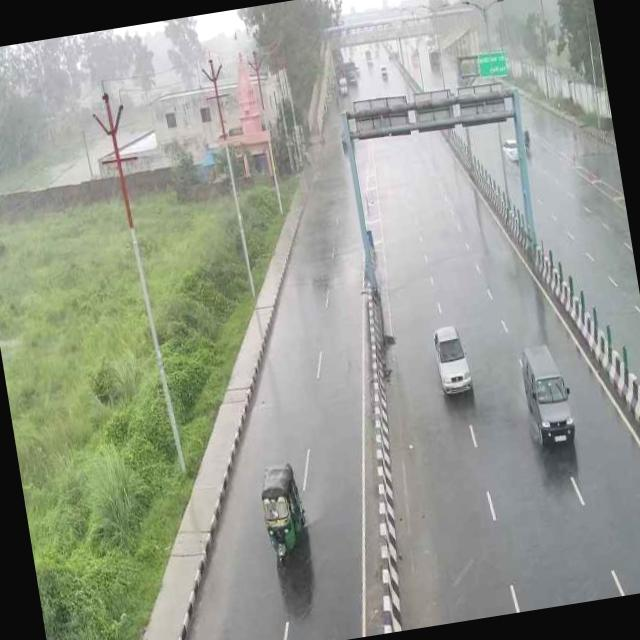car: (512, 332, 586, 466), (423, 314, 484, 411)
